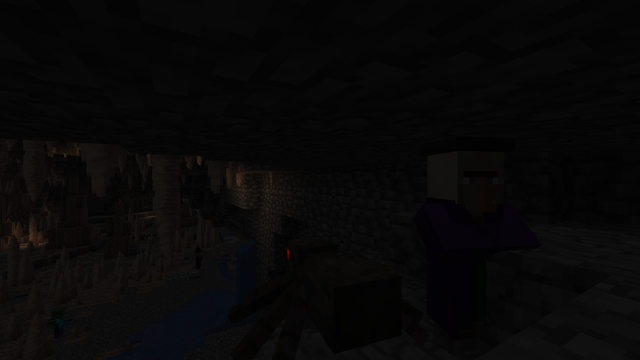araignees: (246, 227, 416, 350)
sorcieres: (417, 140, 512, 357), (195, 250, 201, 270)
zombies: (50, 307, 65, 338)
